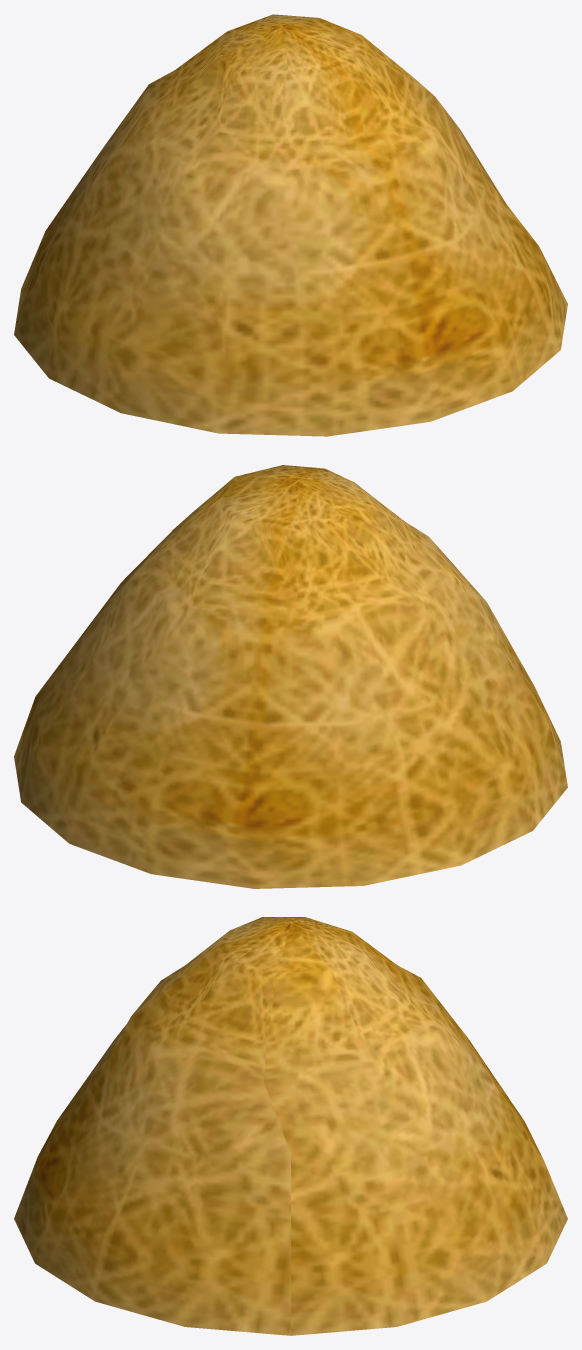
File: HAYSTACK.fbx
The picture shows the model from 3 angles, top to bottom: view 1: azimuth 30°, elevation 25°; view 2: azimuth 150°, elevation 25°; view 3: azimuth 270°, elevation 25°; orthographic projection.
Parts seen in each view (by area): view 1: HAYSTACK; view 2: HAYSTACK; view 3: HAYSTACK.
Part boxes in pixels (<box>): HAYSTACK: <box>14,14,567,436</box>; HAYSTACK: <box>14,465,567,888</box>; HAYSTACK: <box>14,917,567,1335</box>.
Size of the model in its own units: 19308 by 11217 by 19308.
2 materials, 2 textured.
